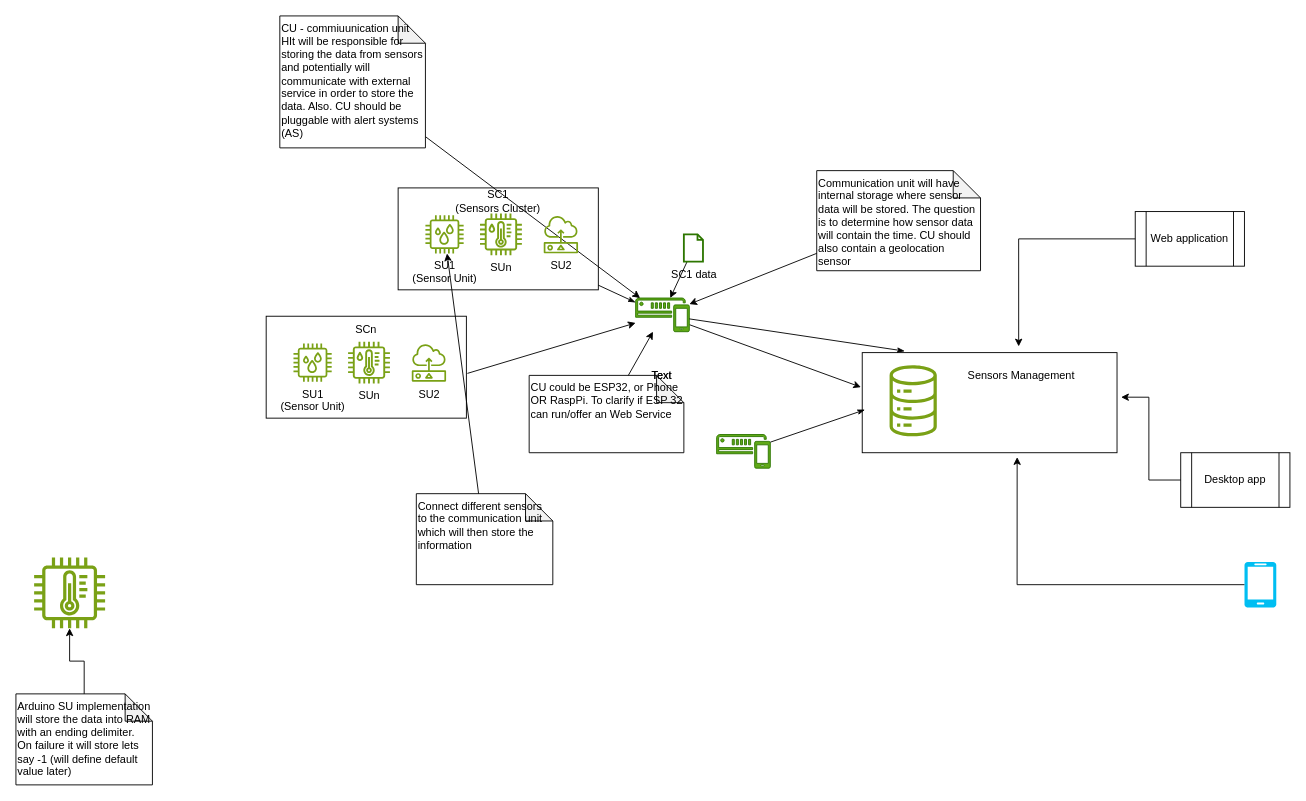
This 1306x801 diagram has some shape labels left out. Each missing label, with the box of its shape:
ASU ArduinoSU: (34, 557, 105, 628)
CU (Controller unit): (635, 297, 689, 332)
CUn: (716, 434, 770, 468)
Mobile app: (1244, 561, 1276, 607)
